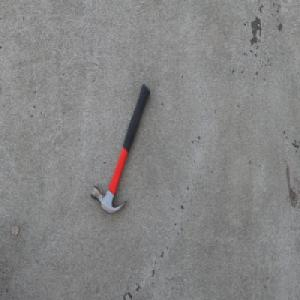Hammer: (90, 82, 151, 214)
